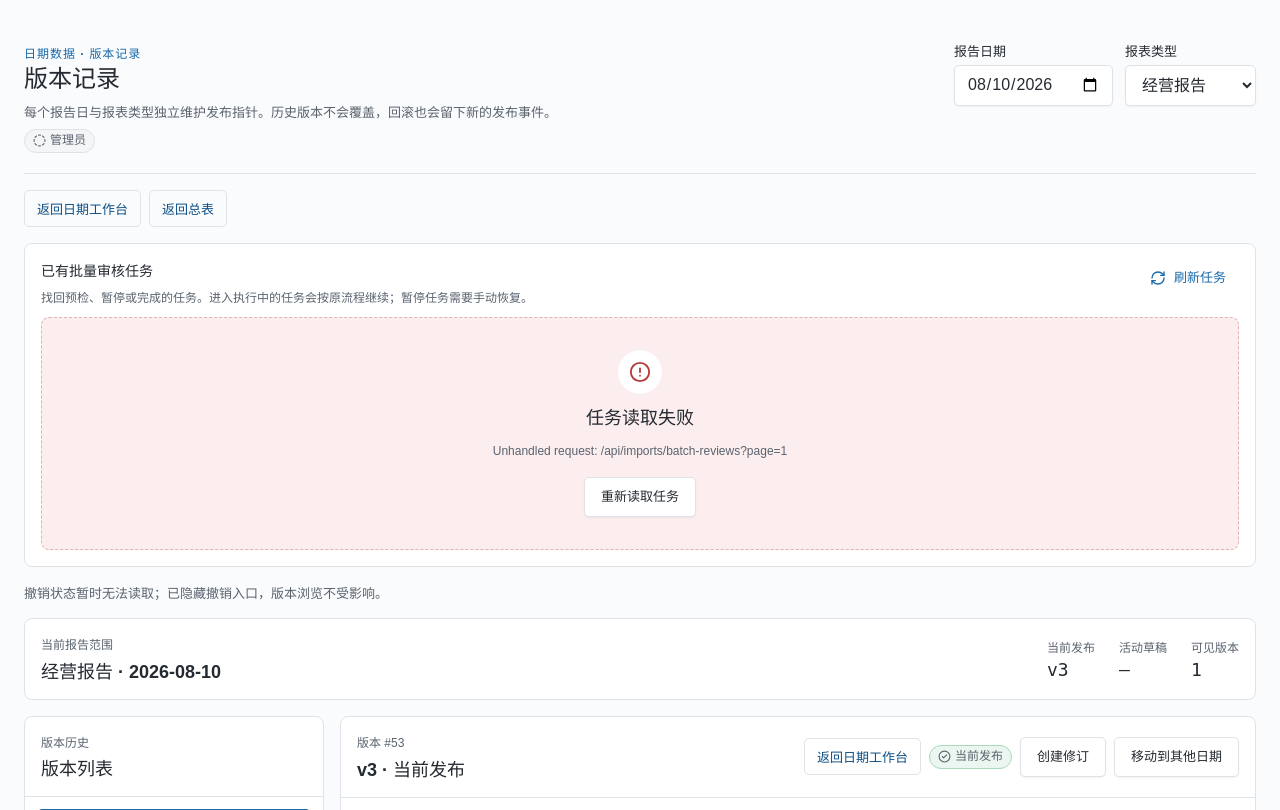
Test: VersionHistory › blocks a historical-only target because the move API has no pointer-less dataset target contract
Click the button "移动到其他日期" at (1176, 757), box [1114,737,1239,777]
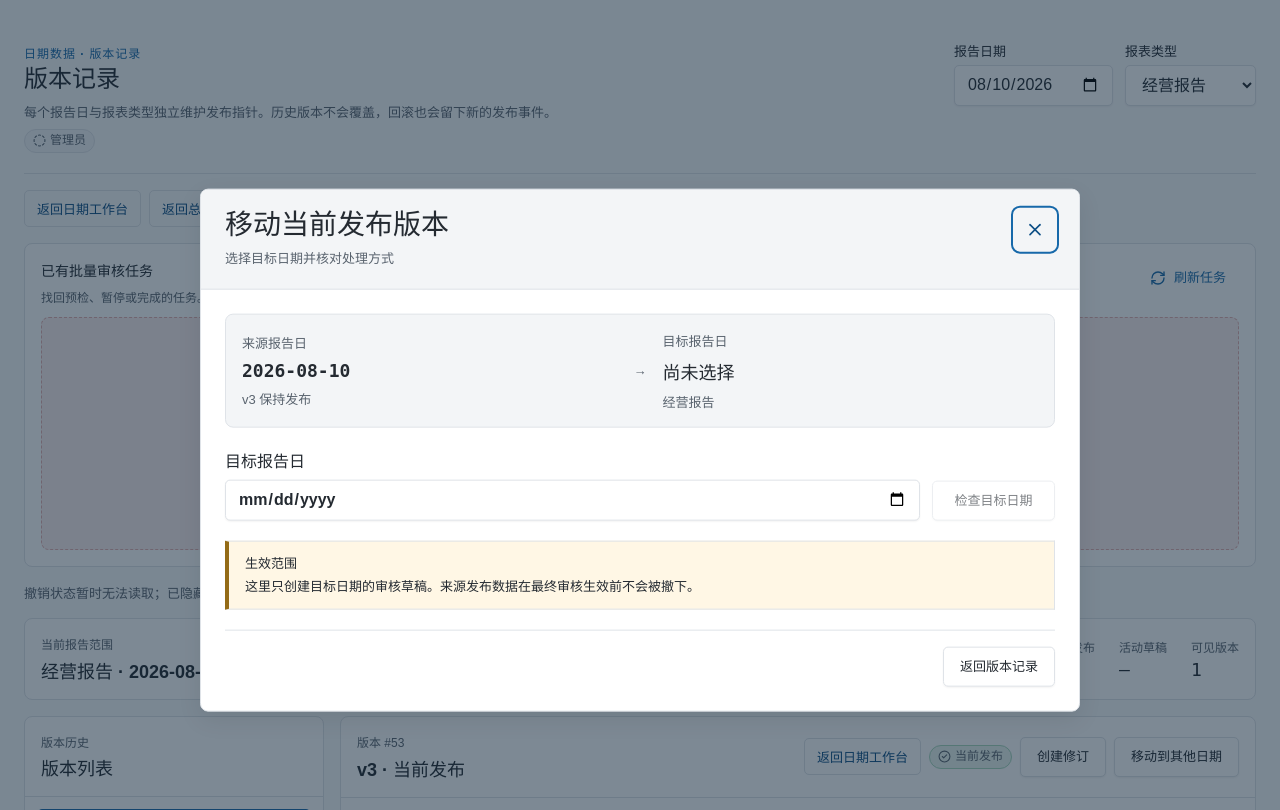
Type "2026-08-11" into the date field labelled "目标报告日" at (572, 500), box [225,480,920,520]
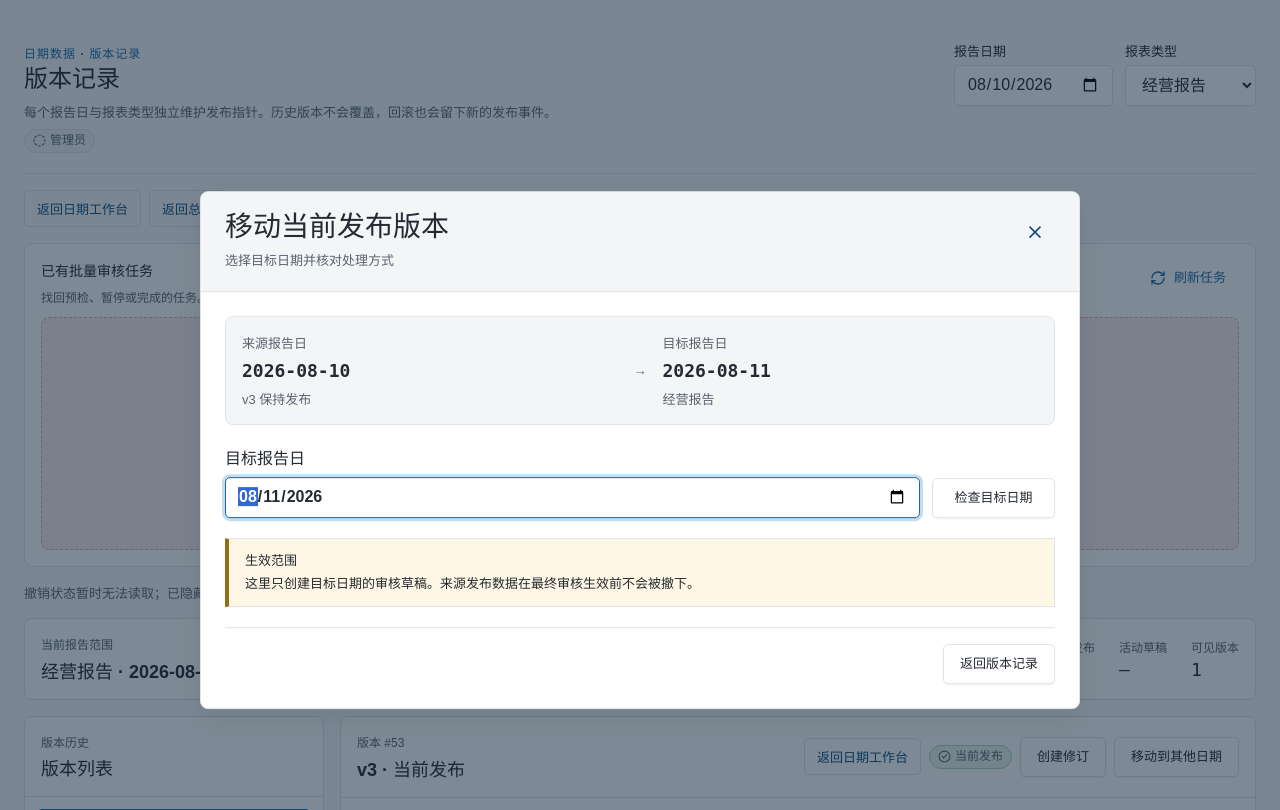
Click the button "检查目标日期" at (994, 498), box [932,478,1055,518]
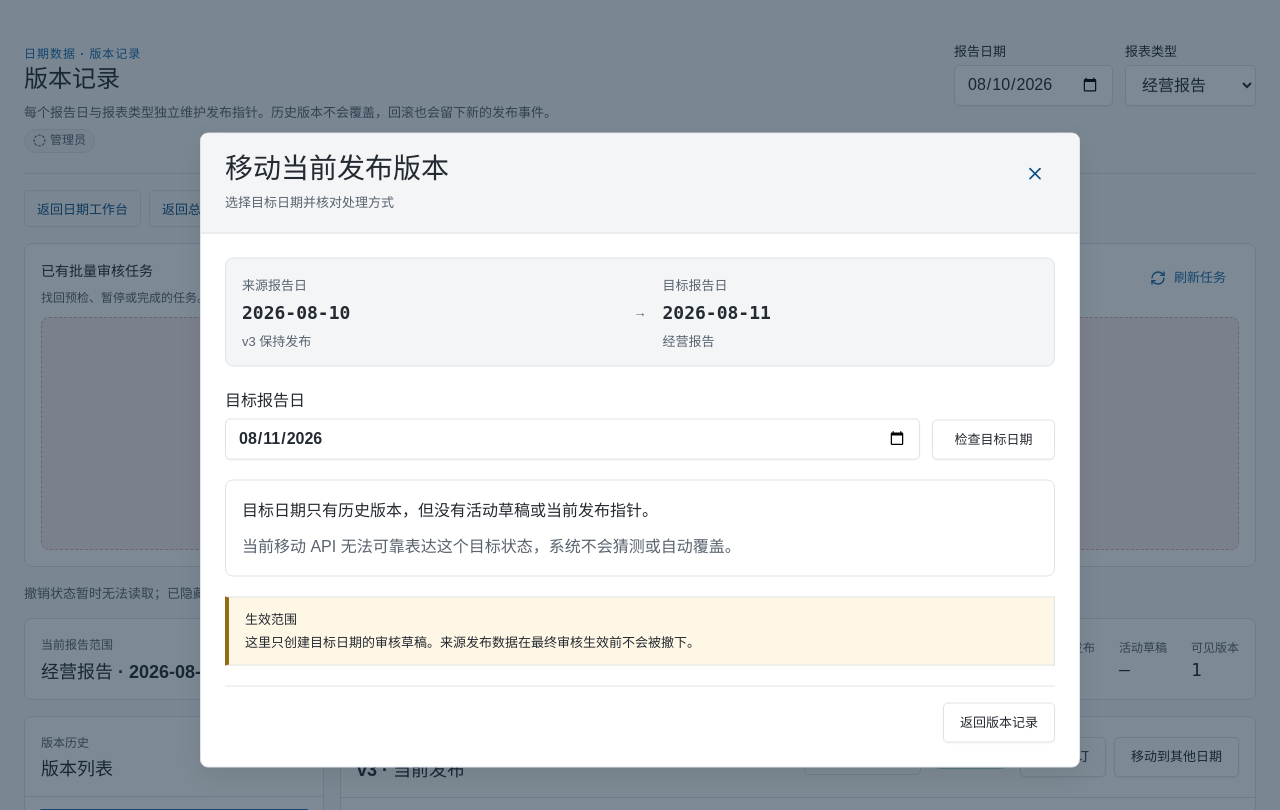
Expected: the text "目标日期只有历史版本，但没有活动草稿或当前发布指针。" is shown, [242,501,658,518]
Expected: the text "当前移动 API 无法可靠表达这个目标状态，系统不会猜测或自动覆盖。" is shown, [242,537,741,554]
